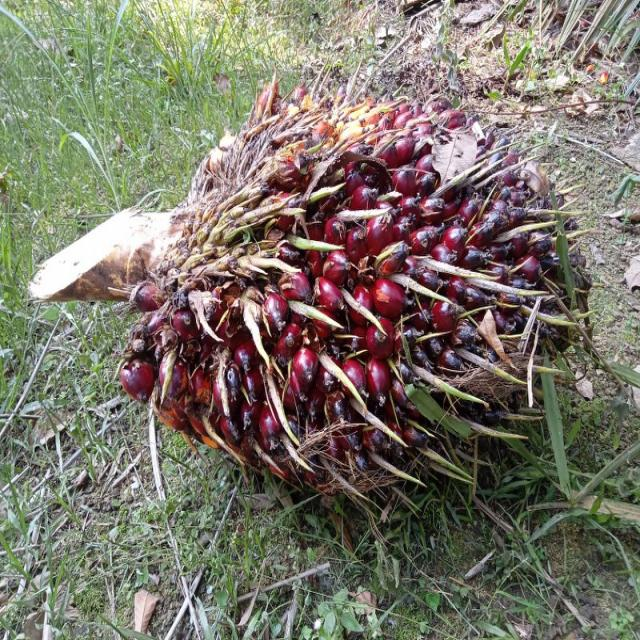fraksi 1: (142, 44, 591, 570)
